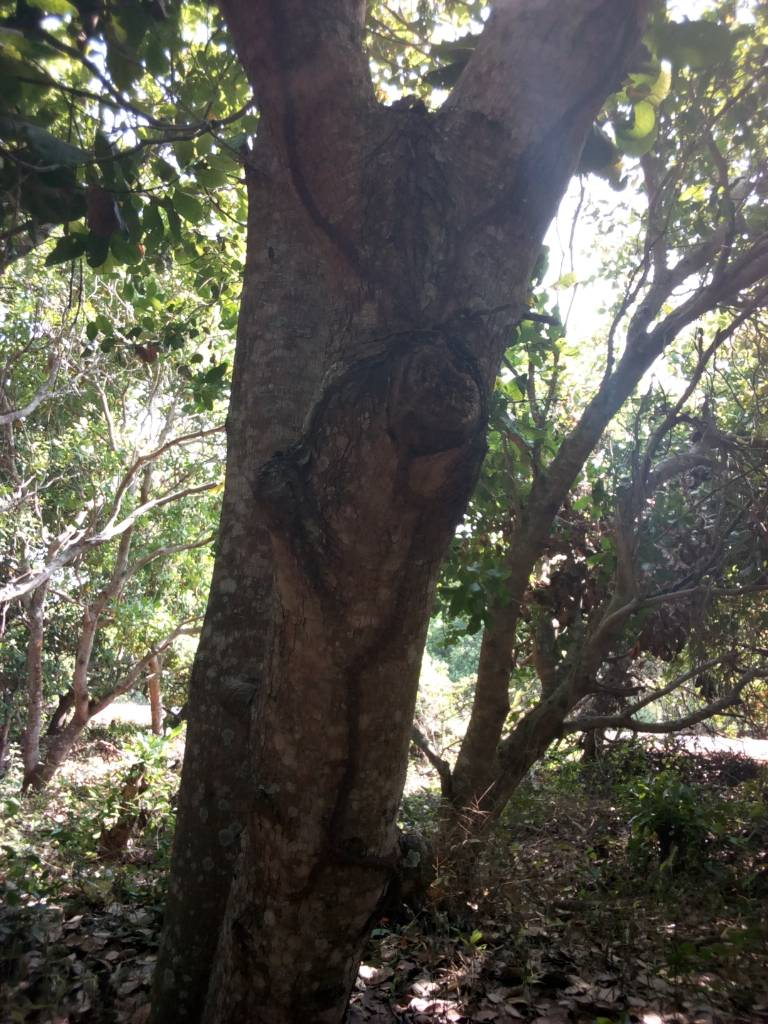Termites: (308, 511, 435, 888), (282, 86, 421, 307), (433, 144, 544, 317)
